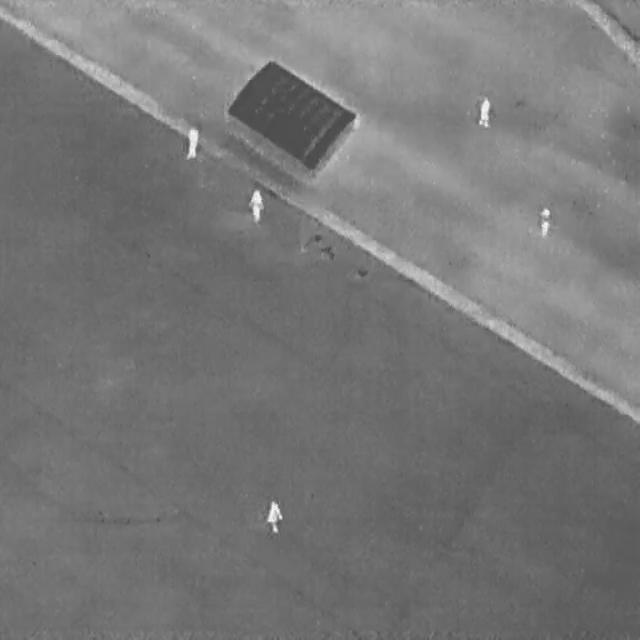Person: (264, 495, 282, 534), (474, 92, 492, 130), (246, 184, 264, 221), (184, 122, 199, 158), (536, 204, 551, 238)
